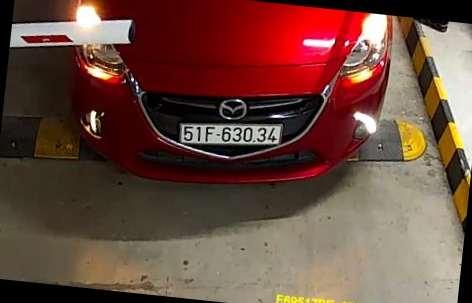plate: (169, 115, 286, 157)
